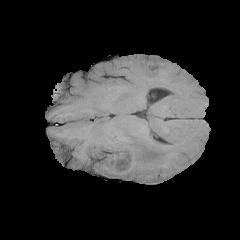glioma: (48, 124, 169, 181)
